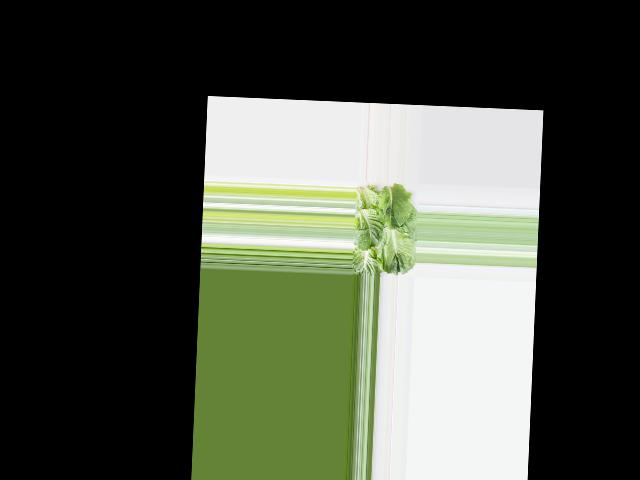lettuce: (351, 184, 416, 275)
